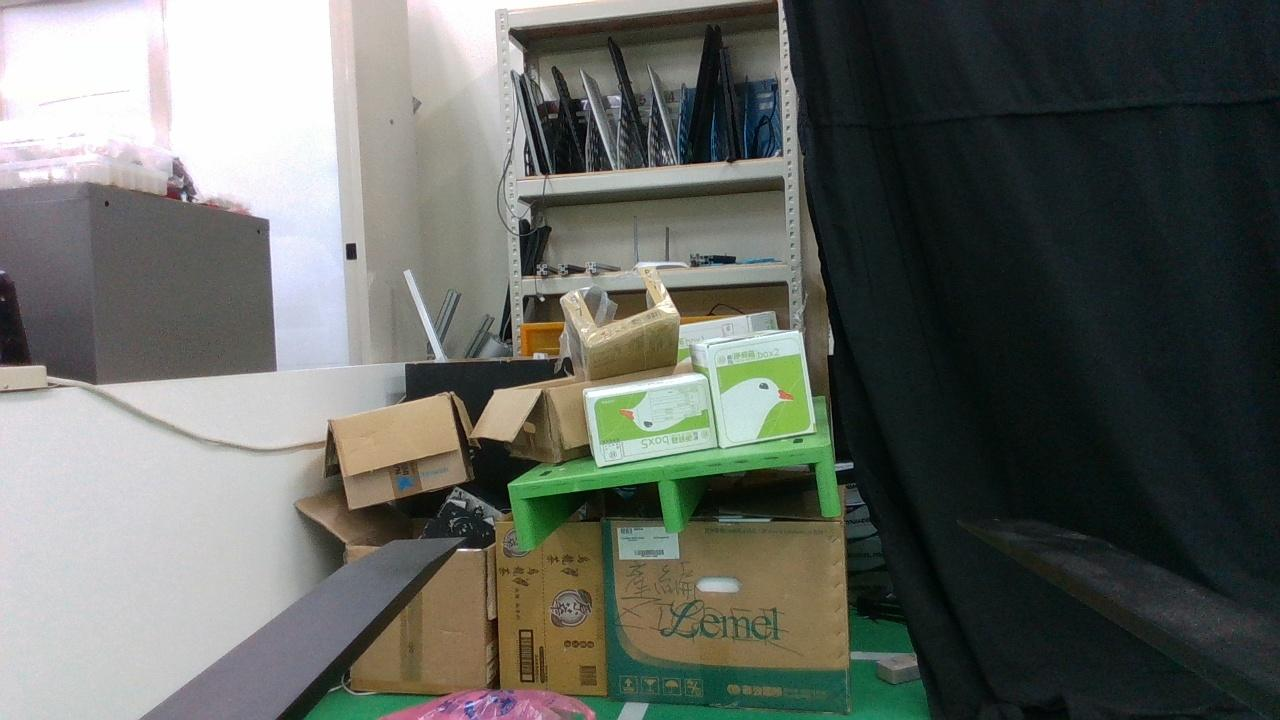Pallet: (506, 442, 842, 558)
